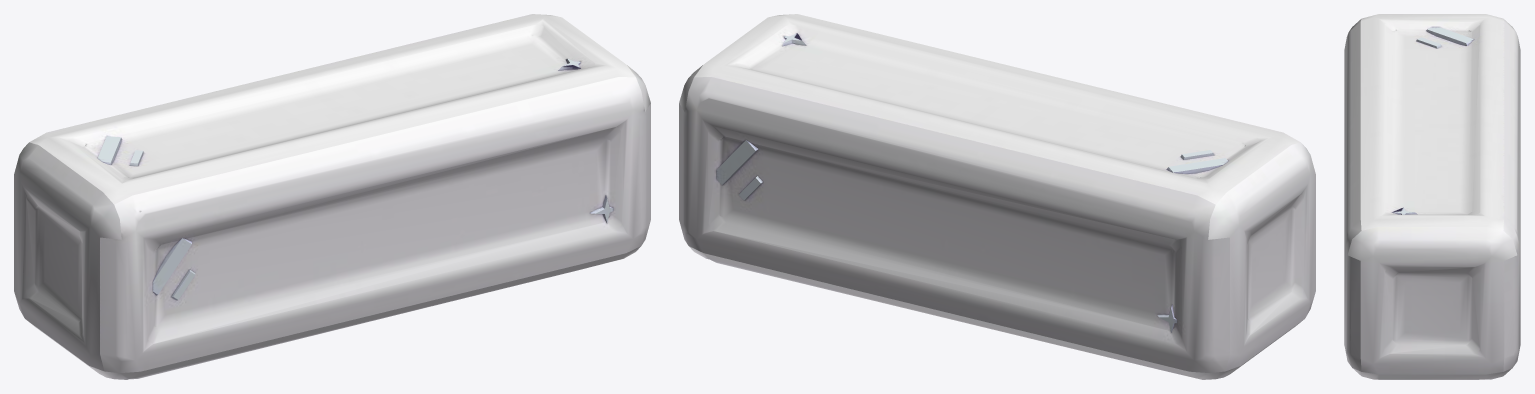
Rendered from buz3.glb.
3 renders of one model, left to right at view 1: azimuth 30°, elevation 25°; view 2: azimuth 150°, elevation 25°; view 3: azimuth 270°, elevation 25°, orthographic. The views are drawn at different scales.
Parts seen in each view (by area): view 1: buz3; view 2: buz3; view 3: buz3.
Boxes of the visible parts, left/top/right/bottom form: buz3: left=14, top=14, right=650, bottom=379; buz3: left=679, top=14, right=1315, bottom=379; buz3: left=1344, top=14, right=1520, bottom=379.
Size of the model in its own units: 4.6 by 1.51 by 1.51.
Materials: 1 (1 with a texture image).
